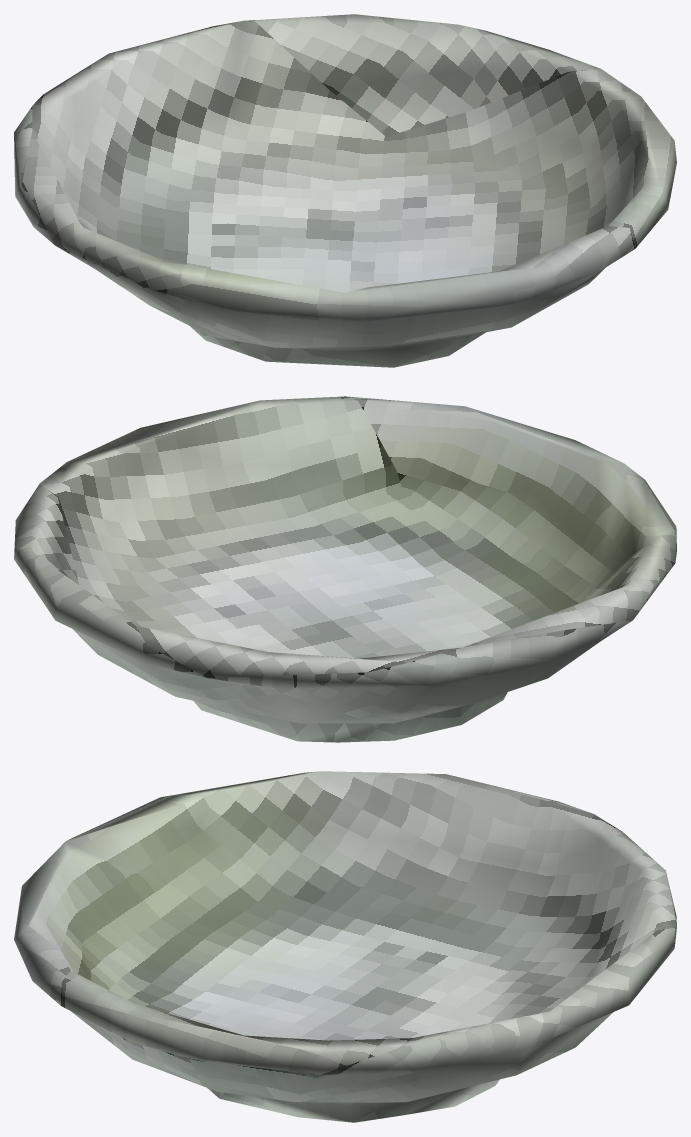
Rendered from Kotobuki_Saucer_Dragon_Fly-low.glb.
The picture shows the model from 3 angles, top to bottom: view 1: azimuth 30°, elevation 25°; view 2: azimuth 150°, elevation 25°; view 3: azimuth 270°, elevation 25°; orthographic projection.
Visible parts, largest first — view 1: Kotobuki_Saucer_Dragon_Fly; view 2: Kotobuki_Saucer_Dragon_Fly; view 3: Kotobuki_Saucer_Dragon_Fly.
Boxes of the visible parts, x1,y1,x2,y2 form: Kotobuki_Saucer_Dragon_Fly: (14,14,676,367); Kotobuki_Saucer_Dragon_Fly: (14,396,676,742); Kotobuki_Saucer_Dragon_Fly: (14,771,676,1122).
Bounding box in the file's own units: 0.0961 × 0.024 × 0.0958.
1 material, 1 textured.
